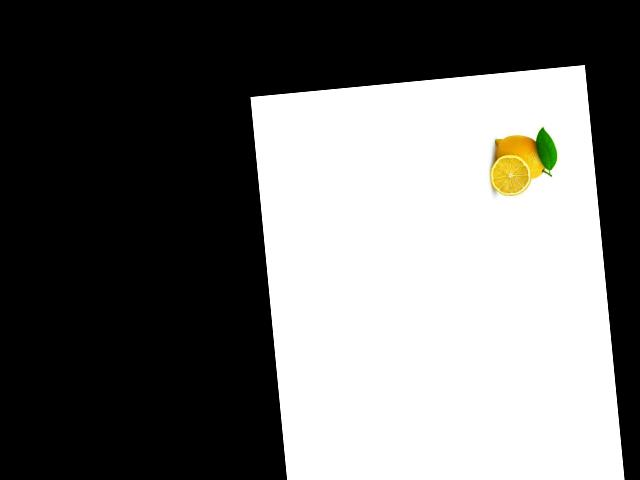lemon: (488, 127, 553, 185)
